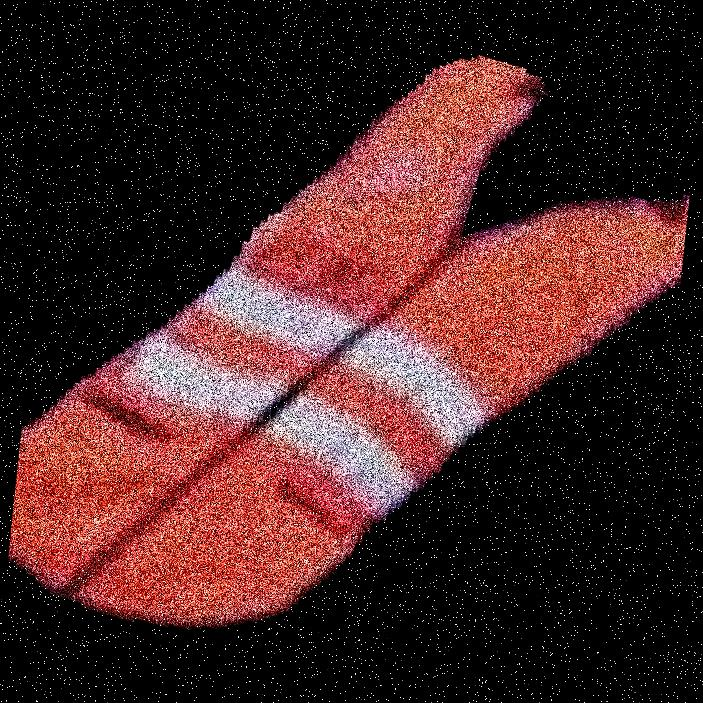Colete: (235, 0, 467, 702)
